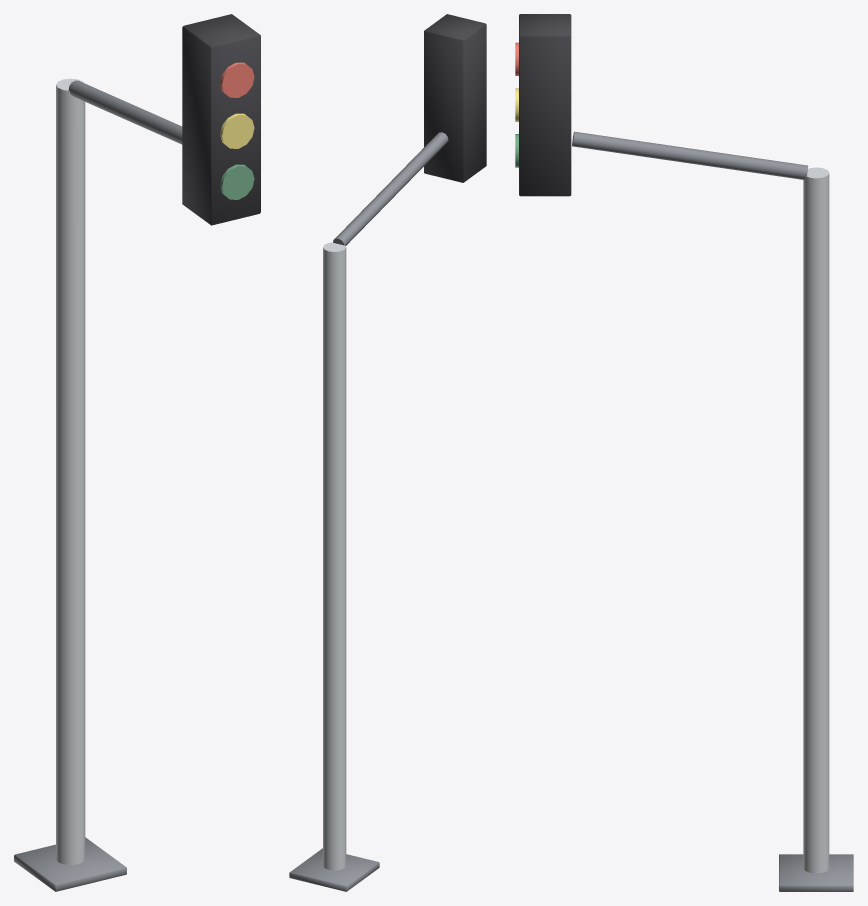
The model's file is TrafficLight.fbx.
The picture shows the model from 3 angles, left to right: view 1: azimuth 30°, elevation 25°; view 2: azimuth 150°, elevation 25°; view 3: azimuth 270°, elevation 25°; orthographic projection. The views are drawn at different scales.
Parts seen in each view (by area): view 1: LOD0; view 2: LOD0; view 3: LOD0.
Part boxes in pixels (x1,y1,x2,y2): LOD0: [14, 14, 260, 891]; LOD0: [289, 14, 486, 891]; LOD0: [515, 14, 853, 891].
Size of what is drawn, in the model's own units: 40 by 502 by 181.
